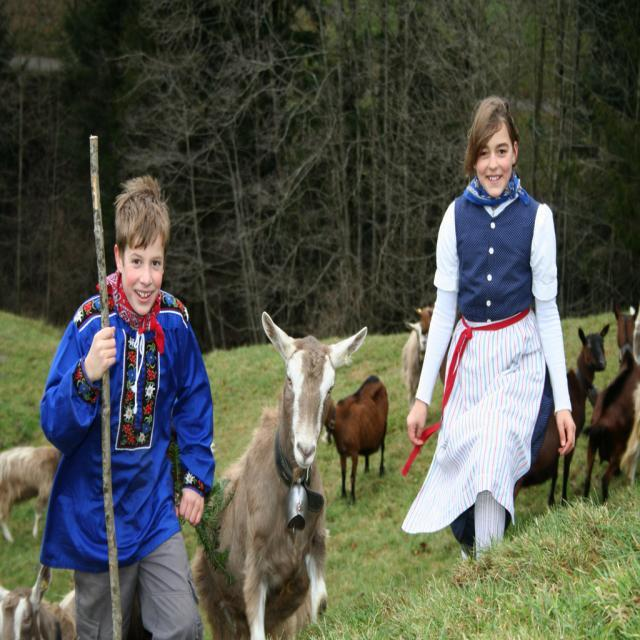Goat: (189, 310, 369, 638), (513, 321, 611, 509), (583, 348, 640, 502), (325, 374, 390, 504), (1, 443, 63, 543), (1, 563, 78, 639), (403, 304, 448, 410), (614, 299, 639, 364)
